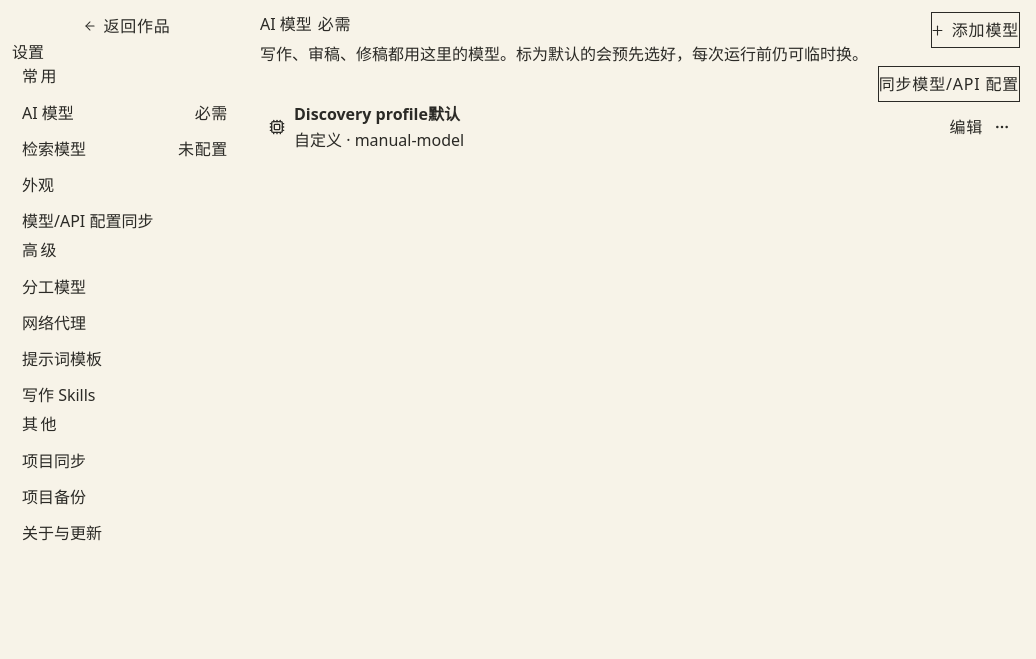
Test: model discovery settings flow › applies endpoint selection metadata and preserves the author limit: grok-4.5
Later steps or results of the test are not shown.
Click the button with aria-label "编辑「" at (966, 127), box [948,113,984,141]
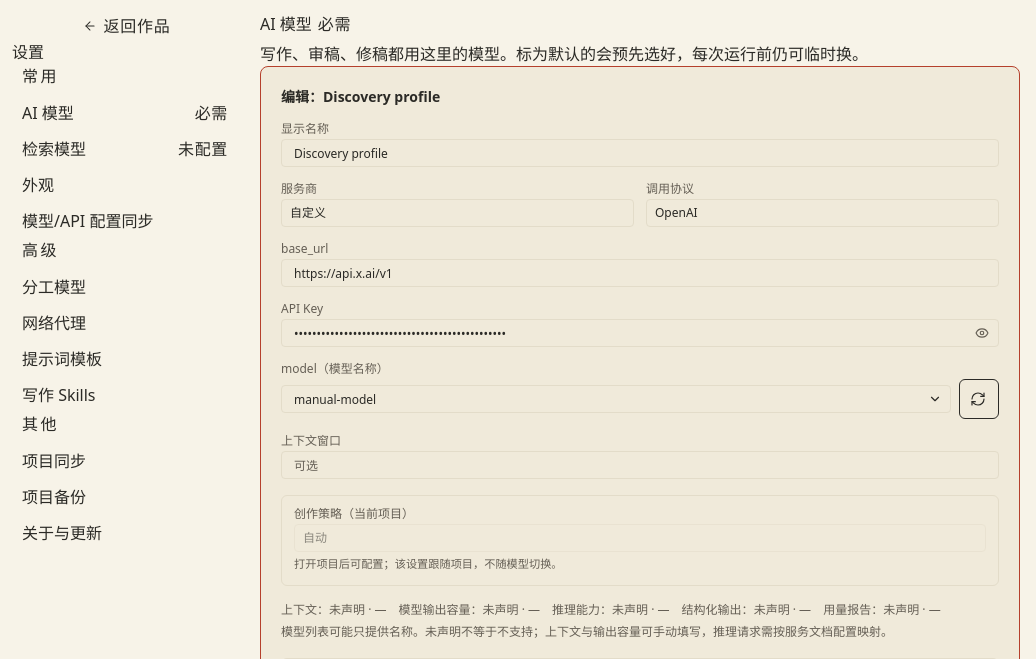
Click the button named "获取模型列表" at (979, 399), box [959,379,999,419]
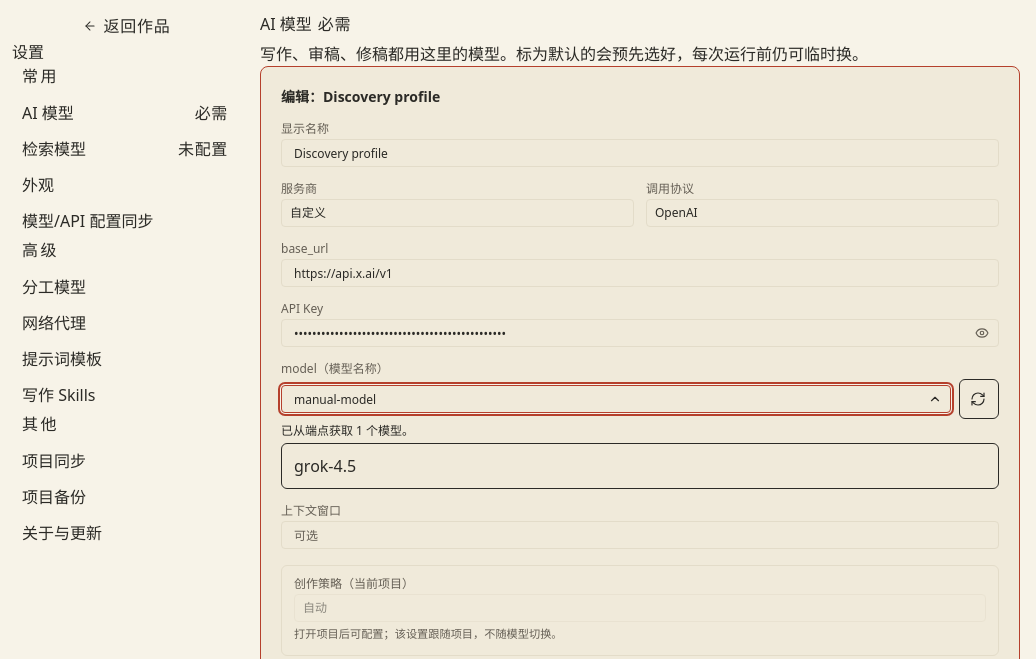
Click the option "grok-4.5" at (325, 466), box [294,455,356,477]
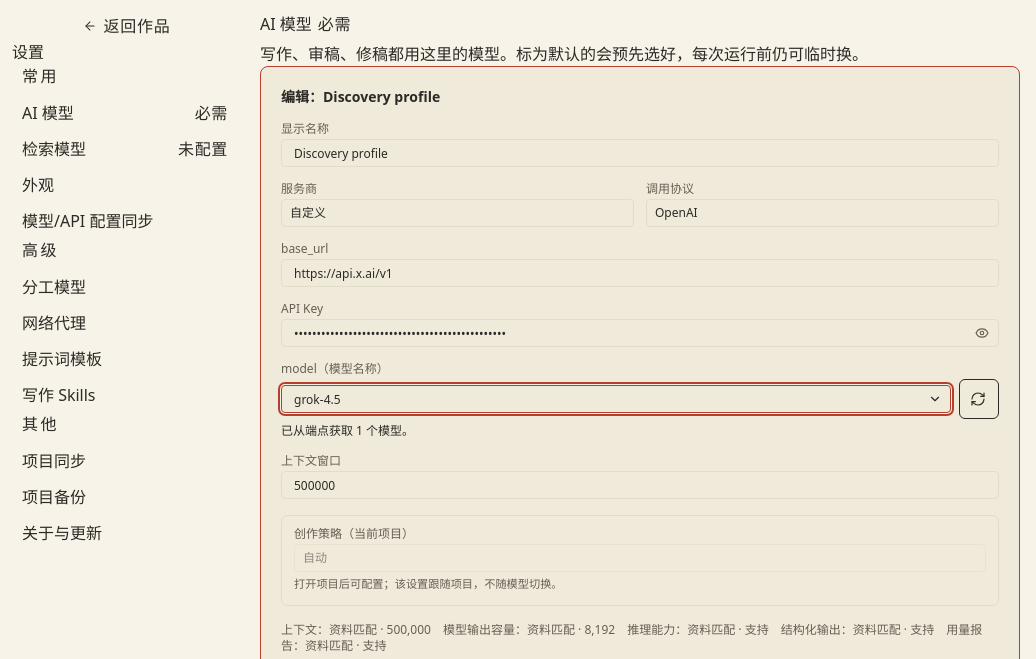
Expected: the number field named "上下文窗口" holds "500000", [281,471,999,499]
